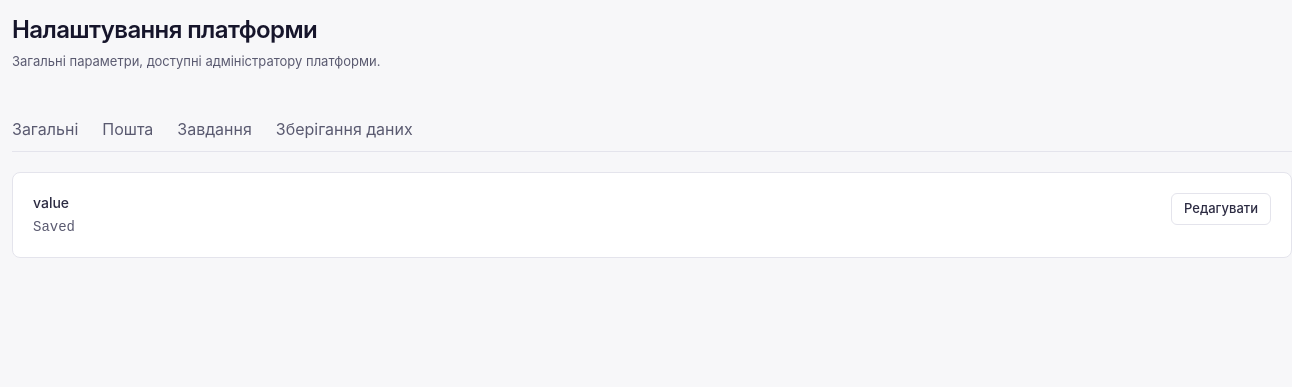
Scenario: platform settings page › keeps newer setting edits while an earlier value is being saved
The width and height of the screenshot is (1292, 387).
Click the button with aria-label "Редагувати value".
click(1221, 208)  # box top-left (1171, 192), bottom-right (1271, 224)
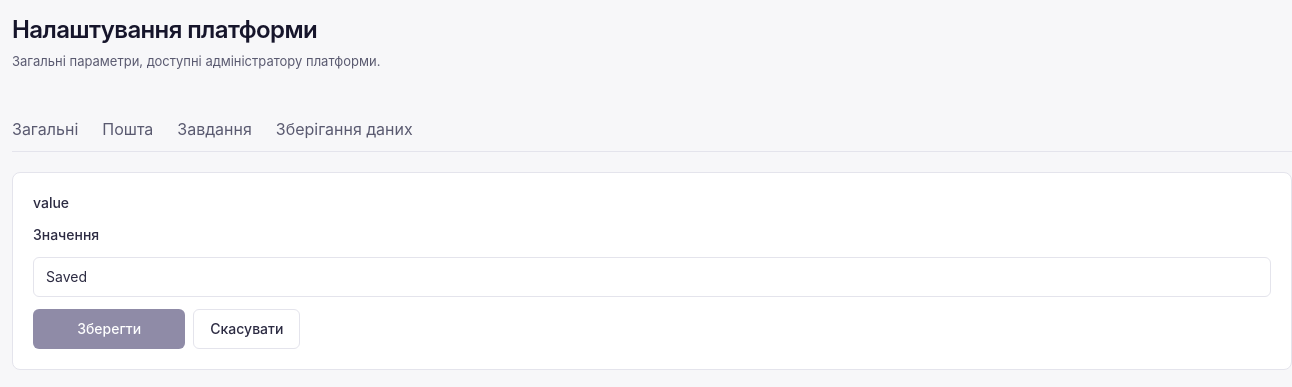
Replace the text in the field labelled "Значення" with "First" at (652,276), box top-left (33, 256), bottom-right (1271, 296)
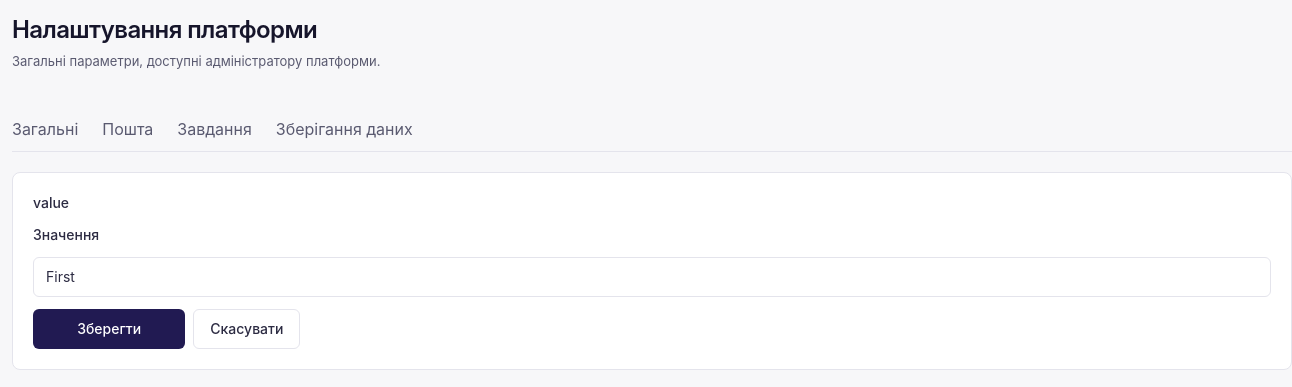
Click the button "Зберегти".
click(109, 328)  # box top-left (33, 308), bottom-right (185, 348)
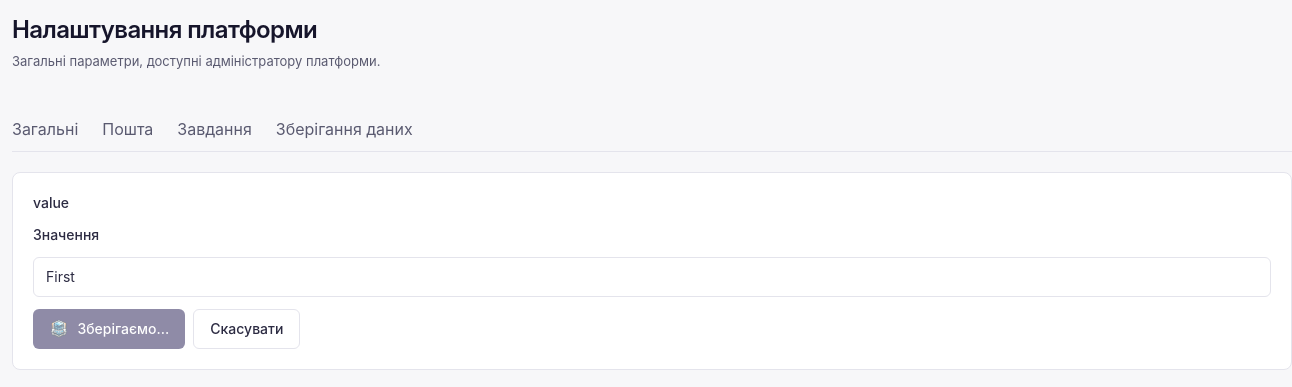
Replace the text in the field labelled "Значення" with "Newer" at (652,276), box top-left (33, 256), bottom-right (1271, 296)
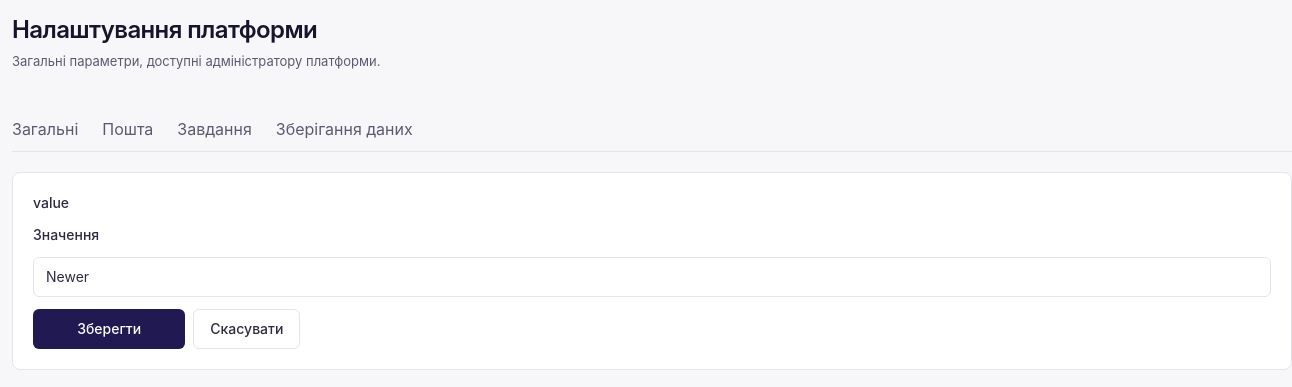
Expected: the button "Зберегти" is enabled, top-left (33, 308), bottom-right (185, 348)
